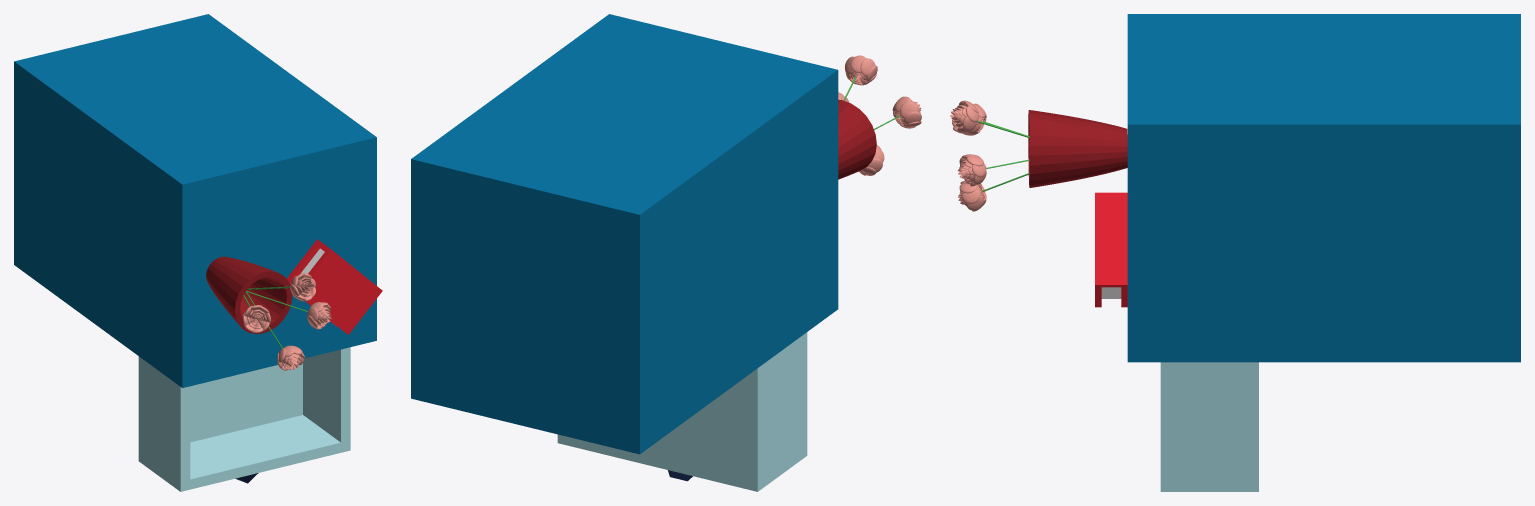
Rendered from tinker.obj.
The picture shows the model from 3 angles, left to right: view 1: azimuth 30°, elevation 25°; view 2: azimuth 150°, elevation 25°; view 3: azimuth 270°, elevation 25°; orthographic projection. The views are drawn at different scales.
Parts seen in each view (by area): view 1: group_0_30377, group_0_11593967, group_0_9771553, group_0_15277357, group_0_15308428; view 2: group_0_30377, group_0_11593967, group_0_9771553, group_0_15308428; view 3: group_0_30377, group_0_11593967, group_0_9771553, group_0_15277357, group_0_15308428.
Part boxes in pixels (bbox=[...]): group_0_30377: bbox=[14, 14, 376, 387]; group_0_11593967: bbox=[138, 347, 350, 491]; group_0_9771553: bbox=[206, 256, 292, 334]; group_0_15277357: bbox=[286, 239, 382, 334]; group_0_15308428: bbox=[243, 273, 331, 370]; group_0_30377: bbox=[411, 14, 838, 454]; group_0_11593967: bbox=[557, 332, 807, 491]; group_0_9771553: bbox=[838, 99, 876, 179]; group_0_15308428: bbox=[838, 55, 921, 175]; group_0_30377: bbox=[1127, 14, 1520, 362]; group_0_11593967: bbox=[1160, 362, 1258, 491]; group_0_9771553: bbox=[1028, 110, 1127, 187]; group_0_15277357: bbox=[1095, 192, 1127, 307]; group_0_15308428: bbox=[950, 100, 986, 211].
Bounding box in the file's own units: 41 × 68 × 87.12.
